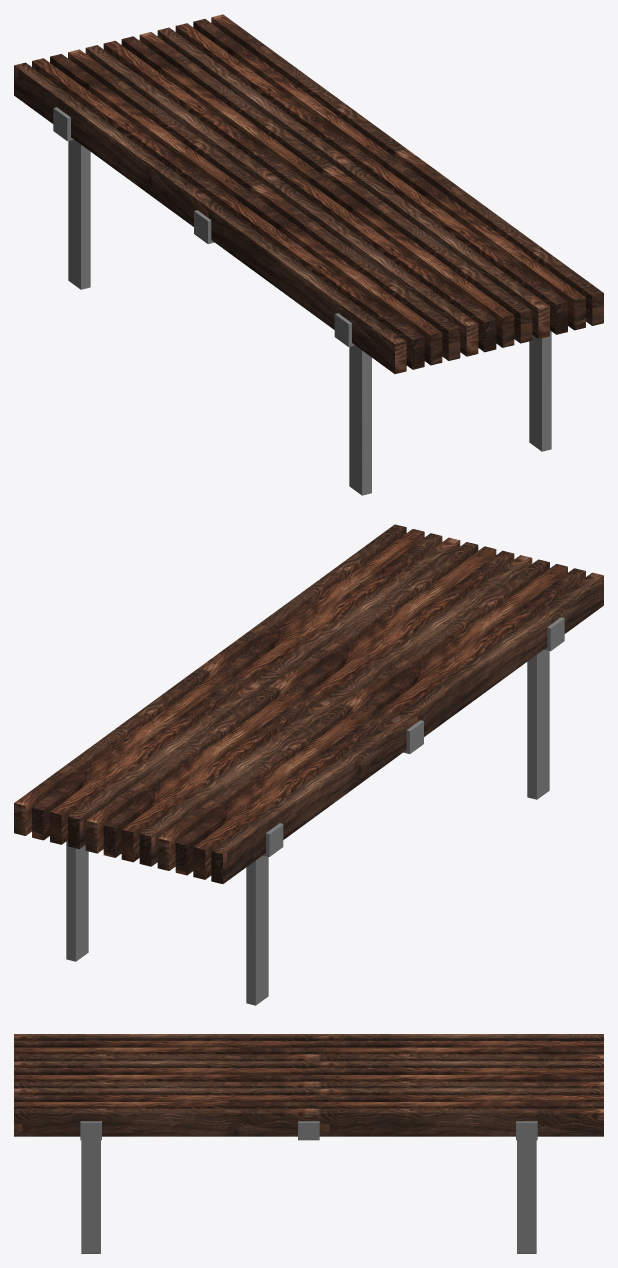
File: Bench_01.fbx
3 renders of one model, top to bottom at view 1: azimuth 30°, elevation 25°; view 2: azimuth 150°, elevation 25°; view 3: azimuth 270°, elevation 25°, orthographic. The views are drawn at different scales.
Visible parts, largest first — view 1: M01_Bench_01_GEO; view 2: M01_Bench_01_GEO; view 3: M01_Bench_01_GEO.
Boxes of the visible parts, left/top/right/bottom form: M01_Bench_01_GEO: left=14, top=14, right=603, bottom=495; M01_Bench_01_GEO: left=14, top=524, right=603, bottom=1005; M01_Bench_01_GEO: left=14, top=1034, right=603, bottom=1253.
Size of the model in its own units: 53.97 by 44.35 by 165.
